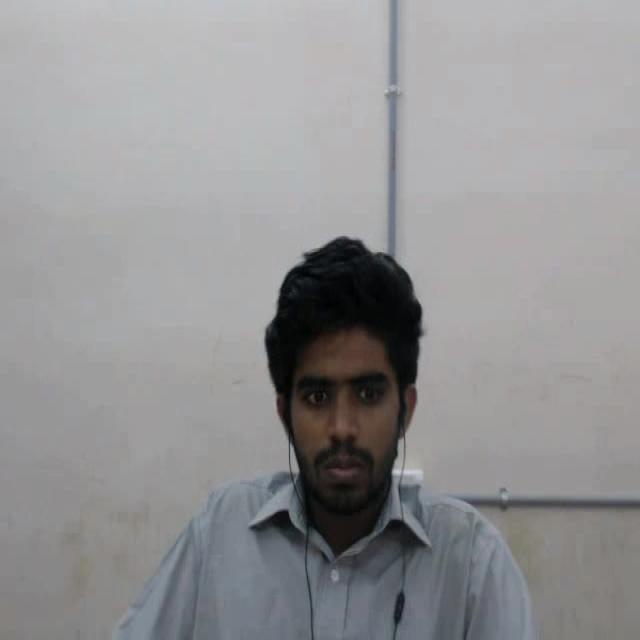Engaged: (244, 206, 464, 581)
